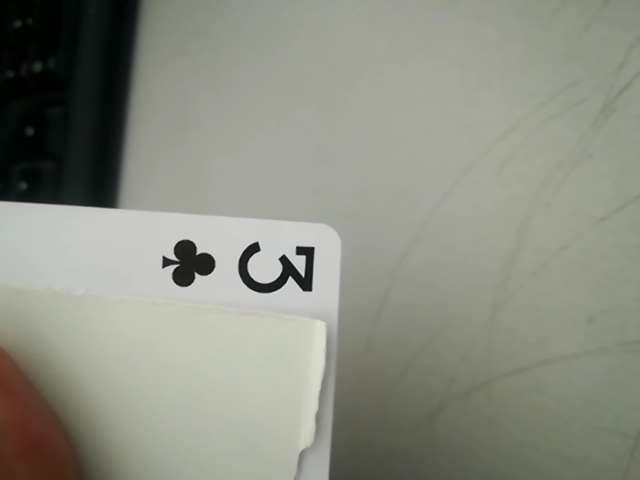mh 3: (151, 218, 339, 319)
